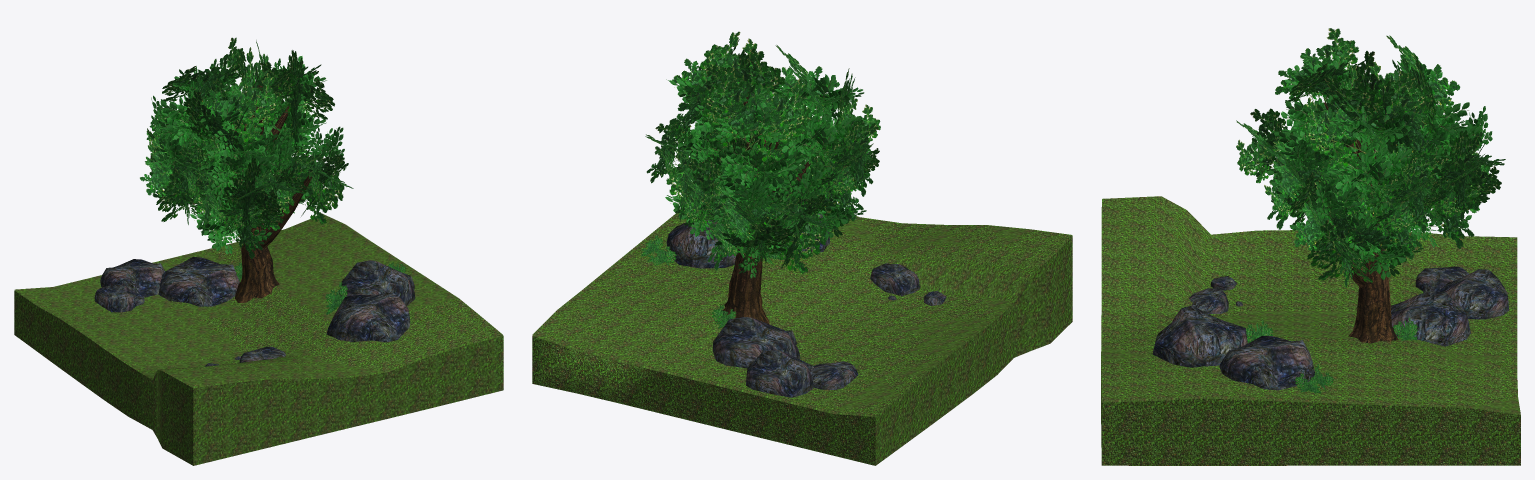
The picture shows the model from 3 angles, left to right: view 1: azimuth 30°, elevation 25°; view 2: azimuth 150°, elevation 25°; view 3: azimuth 270°, elevation 25°; orthographic projection. The views are drawn at different scales.
Parts seen in each view (by area): view 1: floor2, tree, floor1, stone1, stone2, leaf, stone3; view 2: floor2, tree, floor1, stone1, stone2, stone3, leaf; view 3: floor2, tree, floor1, stone2, stone1, leaf, stone3.
Boxes of the visible parts, bbox=[...] form: floor2: bbox=[15, 214, 503, 387]; tree: bbox=[140, 37, 353, 302]; floor1: bbox=[14, 290, 503, 465]; stone1: bbox=[94, 257, 239, 312]; stone2: bbox=[326, 260, 415, 342]; leaf: bbox=[235, 260, 405, 314]; stone3: bbox=[205, 346, 285, 366]; floor2: bbox=[532, 202, 1072, 415]; tree: bbox=[645, 31, 880, 324]; floor1: bbox=[532, 236, 1072, 465]; stone1: bbox=[712, 316, 858, 397]; stone2: bbox=[666, 213, 829, 268]; stone3: bbox=[870, 263, 946, 305]; leaf: bbox=[641, 235, 784, 328]; floor2: bbox=[1101, 196, 1520, 413]; tree: bbox=[1236, 28, 1505, 343]; floor1: bbox=[1101, 363, 1520, 465]; stone2: bbox=[1152, 305, 1314, 390]; stone1: bbox=[1390, 266, 1509, 346]; leaf: bbox=[1246, 317, 1417, 393]; stone3: bbox=[1188, 276, 1242, 313].
Bounding box in the file's own units: 40.76 × 37.09 × 40.4.
